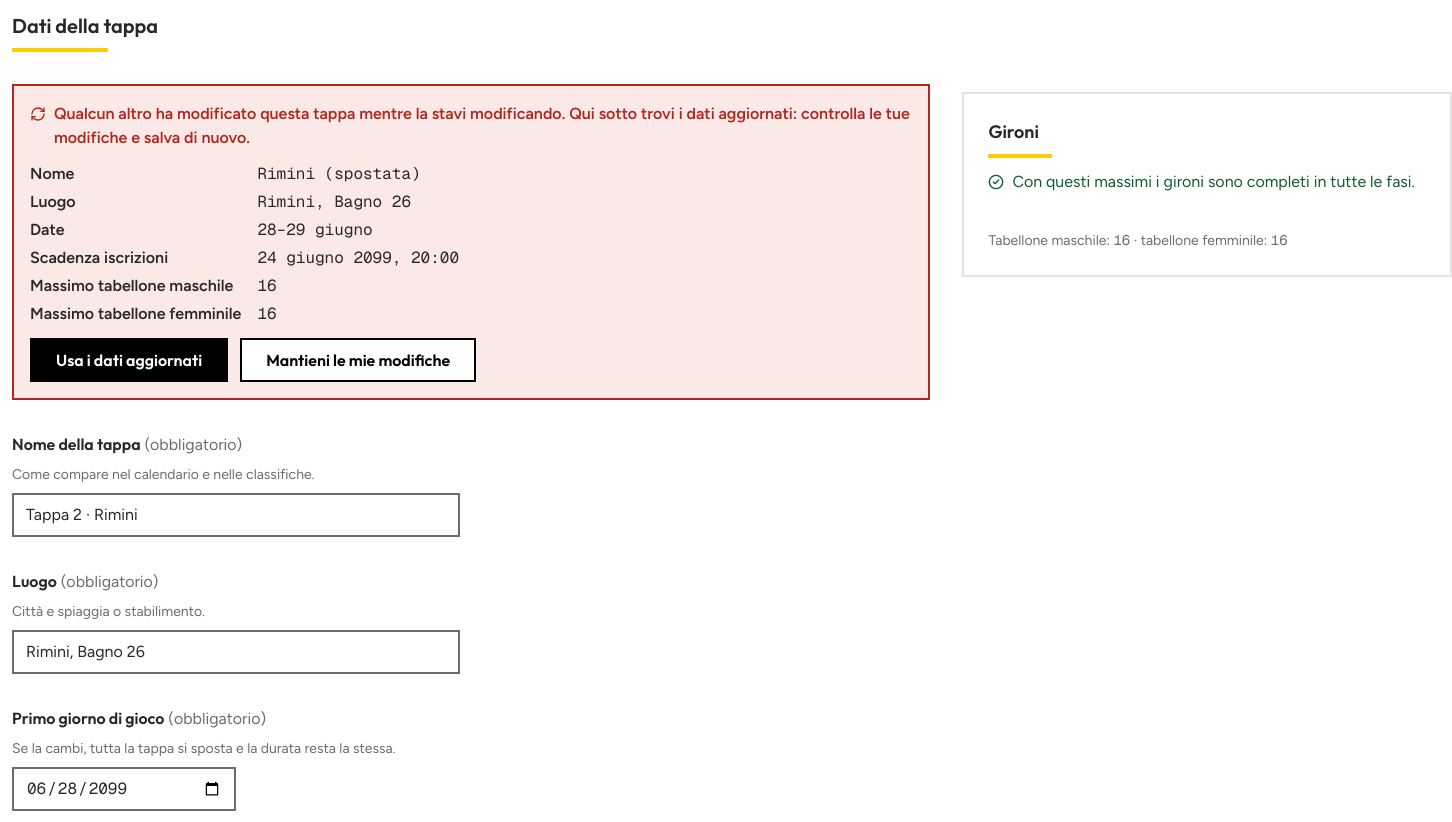
Test: TappaModificaForm › conflitto di versione: mostra i dati aggiornati e li carica a richiesta
This screenshot has width=1452, height=822.
Expected: the text "Rimini (spostata)" is shown, 257,163 -> 421,184
Click the button "Usa i dati aggiornati": (129, 360) 30,338 -> 228,382
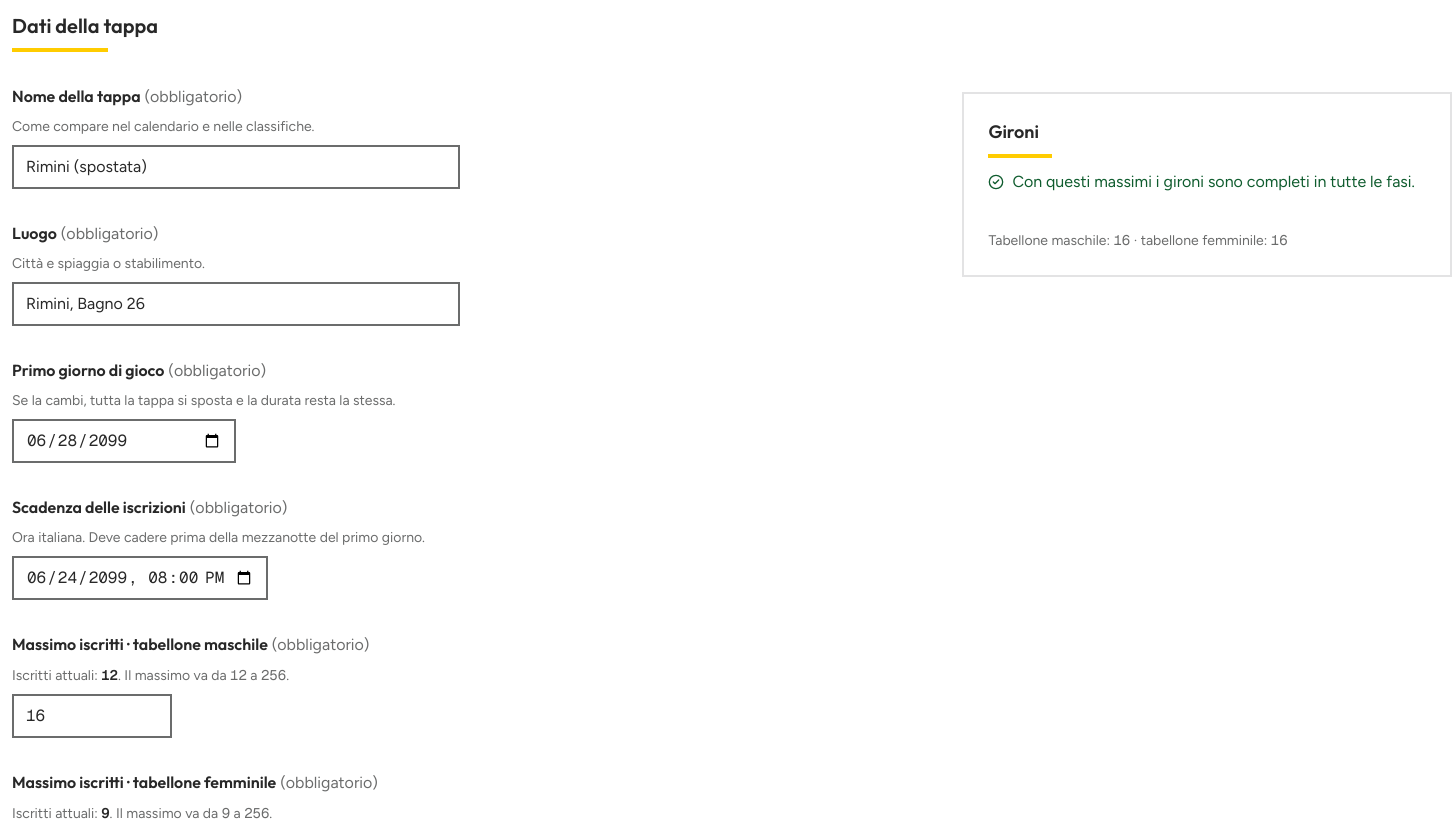
Now the field labelled "Nome della tappa (obbligatorio)" holds "Rimini (spostata)", box 12,145 -> 460,189
